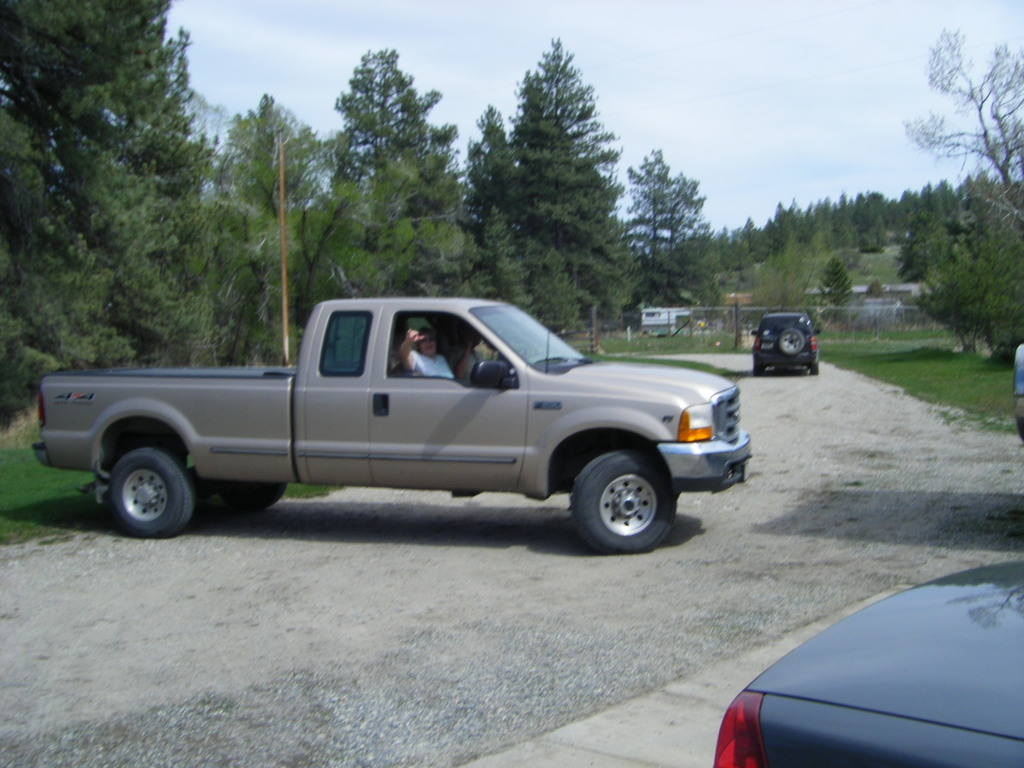Tree: (0, 0, 728, 426), (694, 165, 1024, 283), (899, 24, 1024, 232), (916, 239, 1024, 353)
